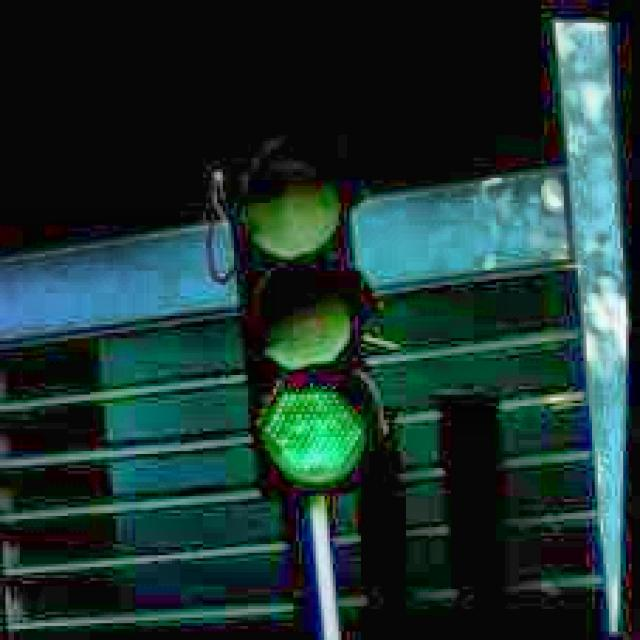green: (207, 127, 402, 505)
